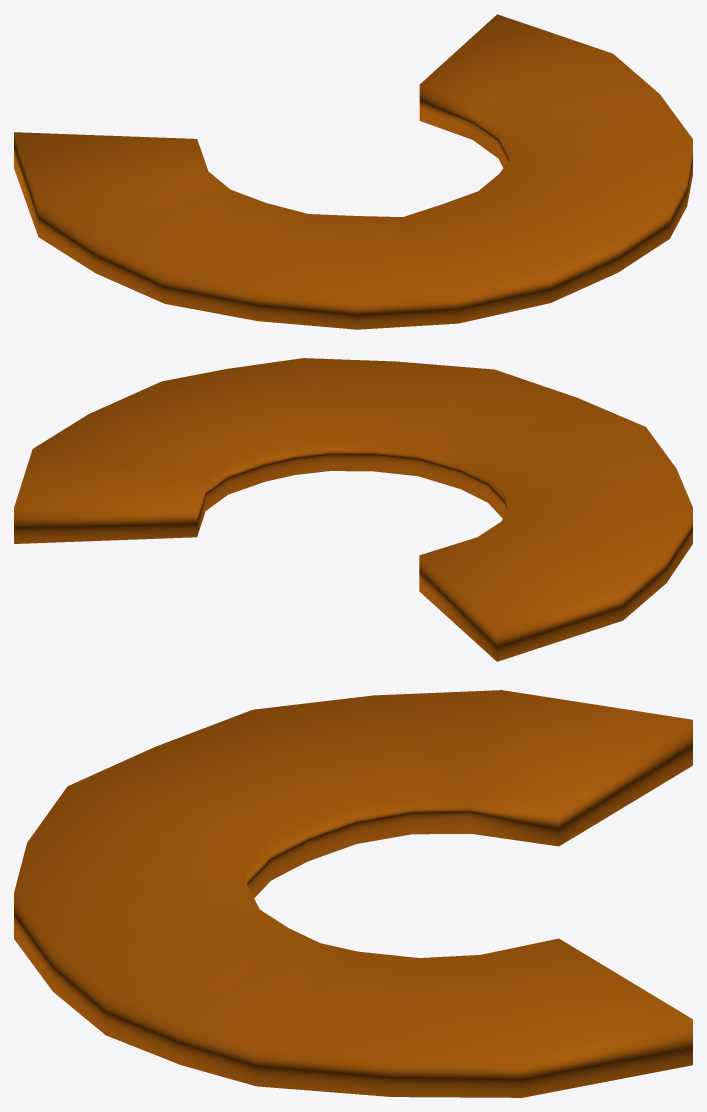
File: Shelf_01_Bend4.fbx
3 views of the same model, one above another, from view 1: azimuth 30°, elevation 25°; view 2: azimuth 150°, elevation 25°; view 3: azimuth 270°, elevation 25° (orthographic). The views are drawn at different scales.
Visible parts, largest first — view 1: Shelf_01_Bend4; view 2: Shelf_01_Bend4; view 3: Shelf_01_Bend4.
Boxes of the visible parts, box(x1,y1,x2,y2) form: Shelf_01_Bend4: box(14, 14, 692, 329); Shelf_01_Bend4: box(14, 358, 692, 661); Shelf_01_Bend4: box(14, 690, 692, 1097).
Size of the model in its own units: 123 by 8.89 by 97.73.
